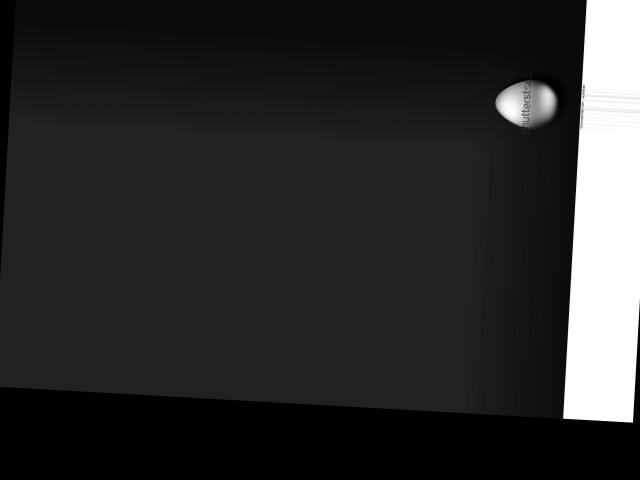egg: (493, 77, 560, 130)
